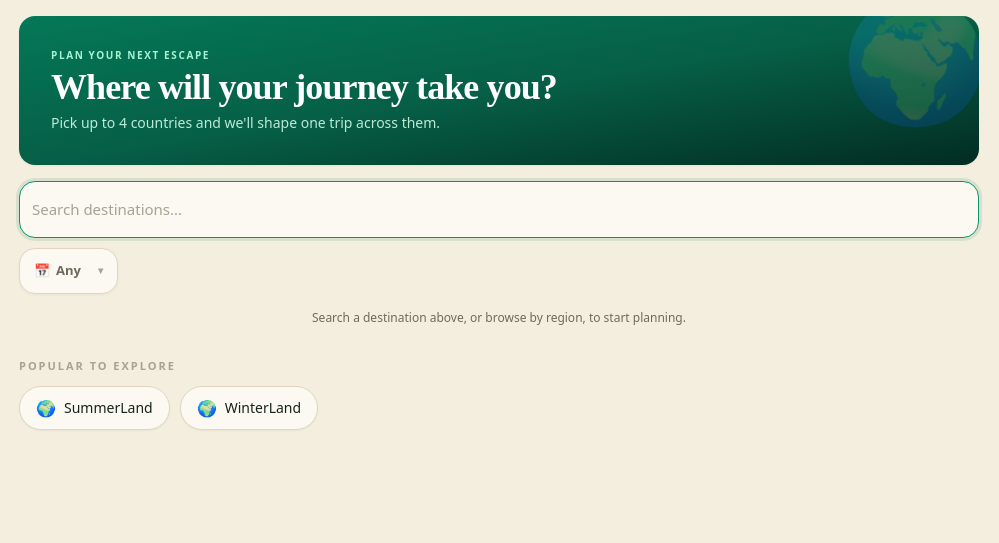
DestinationPicker › month filter › flags each selected token good/off-season when a month is chosen after selecting
# Select both destinations first, THEN pick the month (the reported flow).
Click the button "🌍 SummerLand". click: (94, 408)
box: [19,386,170,430]
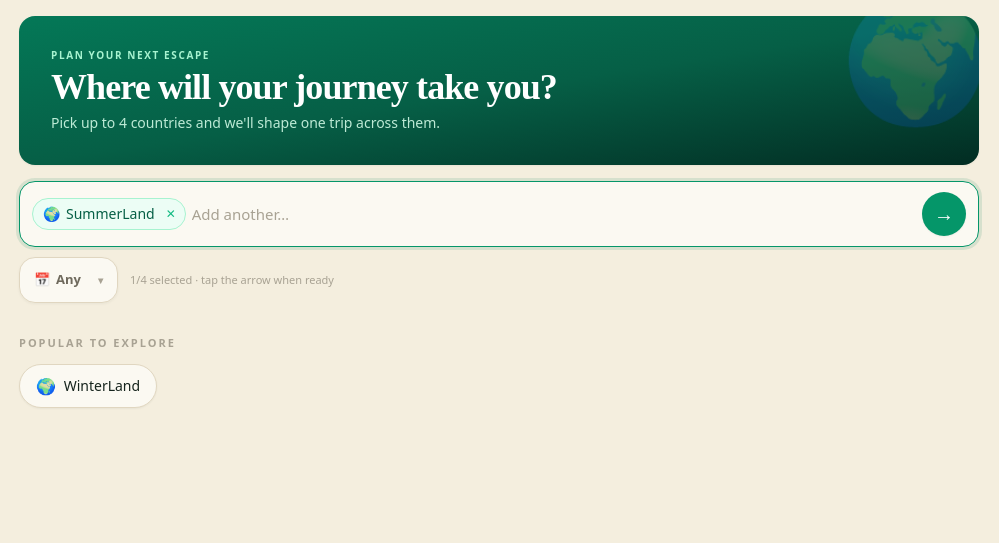
Click the button "🌍 WinterLand". click: (88, 386)
box: [19,364,158,408]
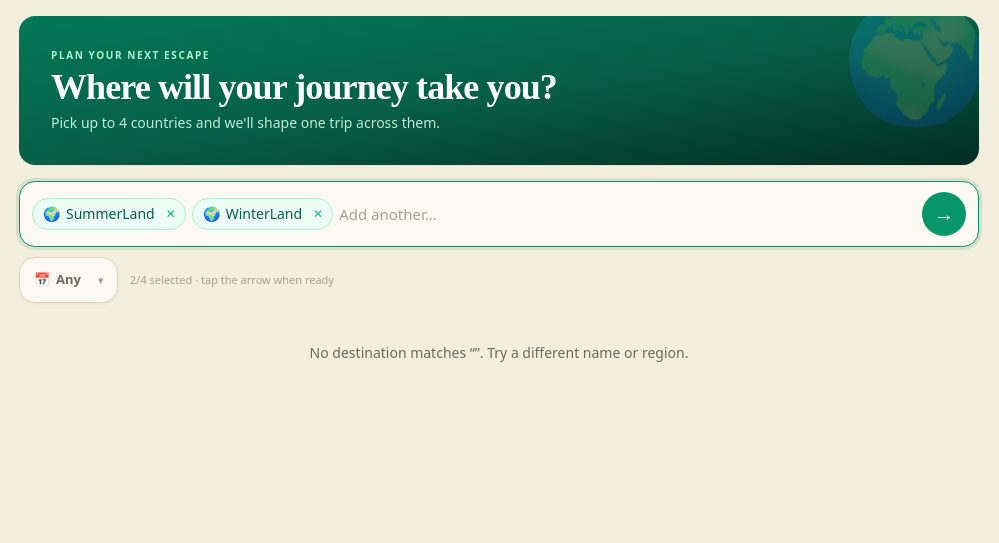
Click the button with aria-label "travel month". click: (68, 280)
box: [19,257,118,303]
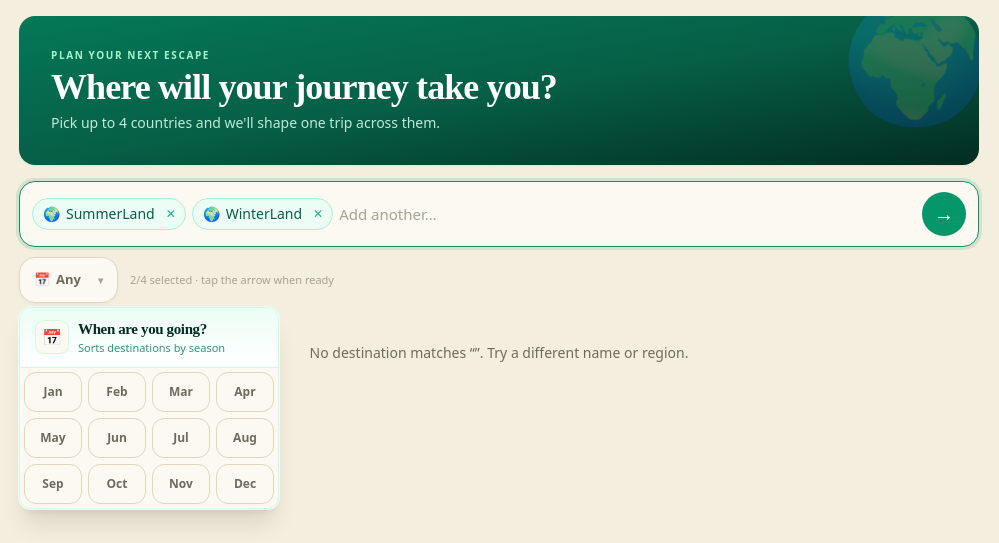
Click the button with aria-label "July". click: (181, 438)
box: [152,418,210,458]
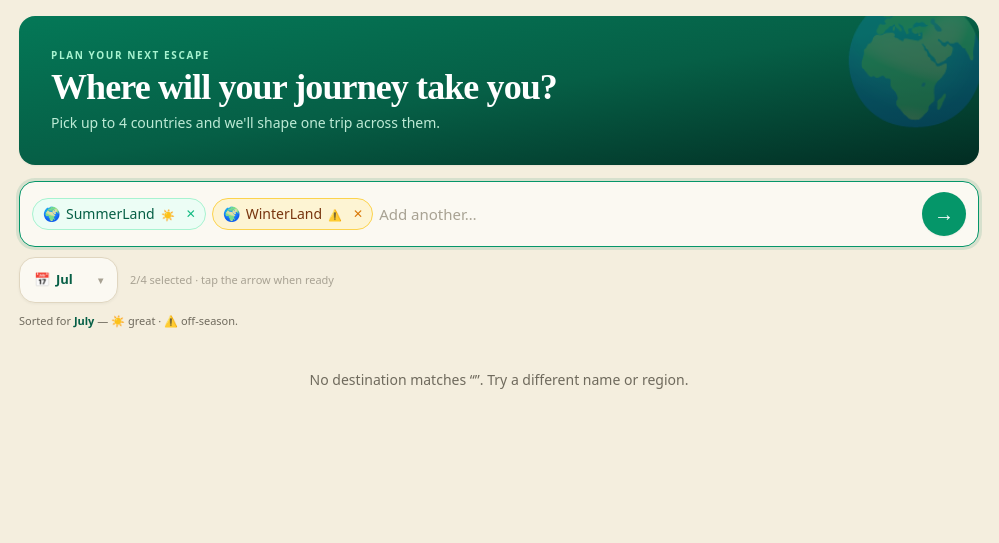
Now the picture named "great in July" is shown, box [161,208,175,220]
Now the picture named "avoid July" is shown, box [328,208,342,220]
